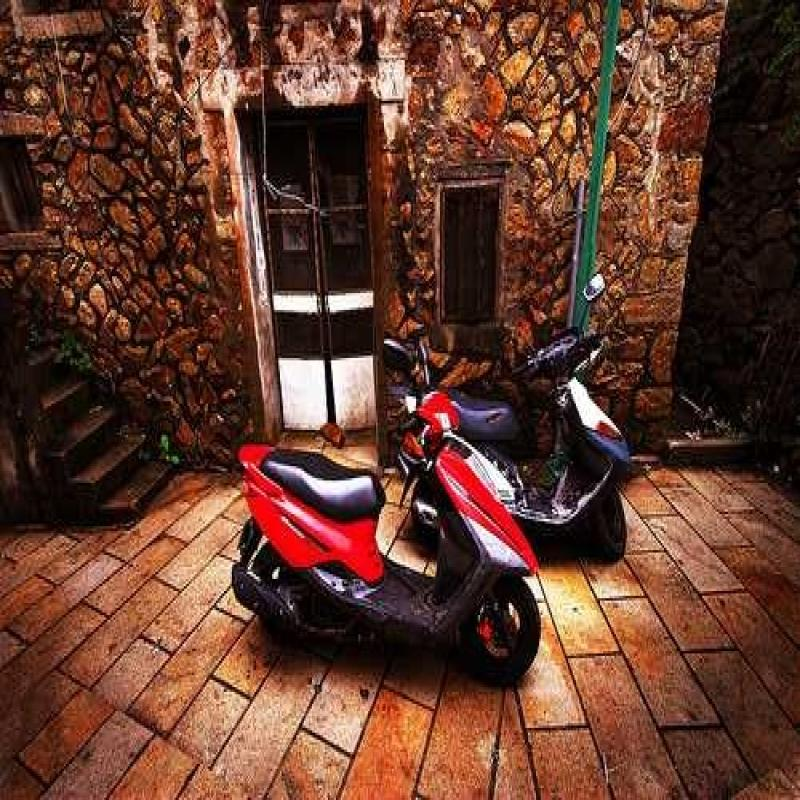bike: (236, 357, 534, 733), (435, 298, 668, 572)
